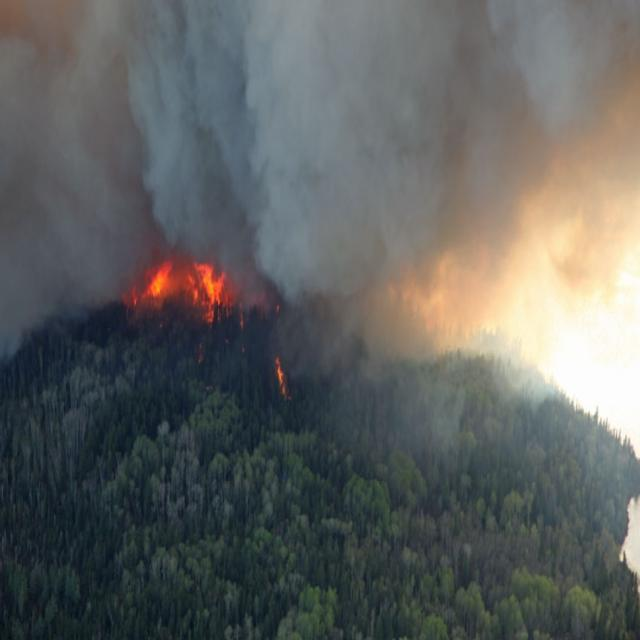Smoke: (4, 13, 483, 256)
